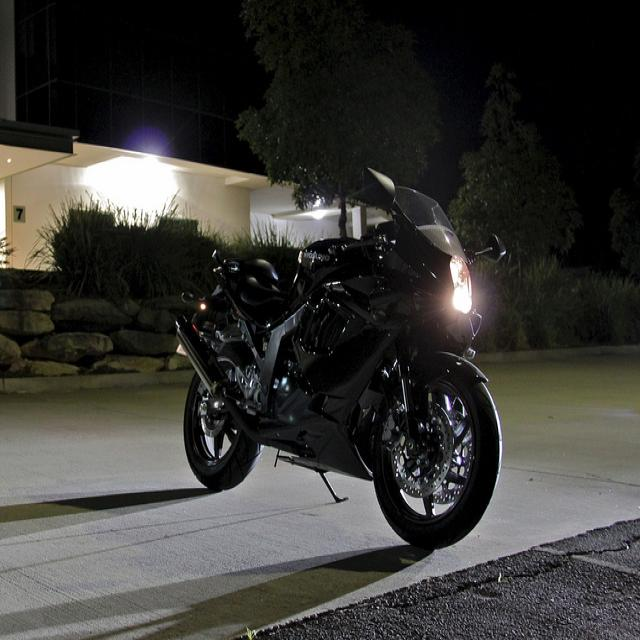Motorbike: (169, 170, 503, 548)
